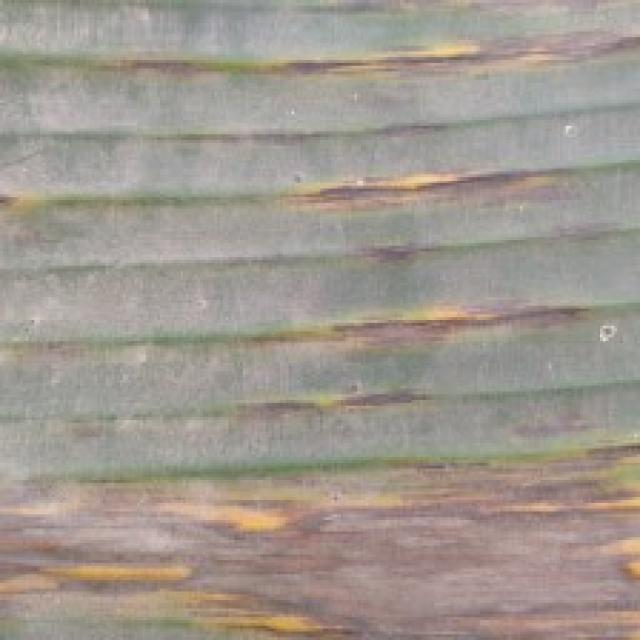Early_leaf_spot: (3, 445, 640, 640), (94, 22, 640, 134), (233, 294, 640, 368), (258, 142, 614, 216), (233, 366, 478, 442), (348, 224, 455, 281), (0, 180, 45, 235)
